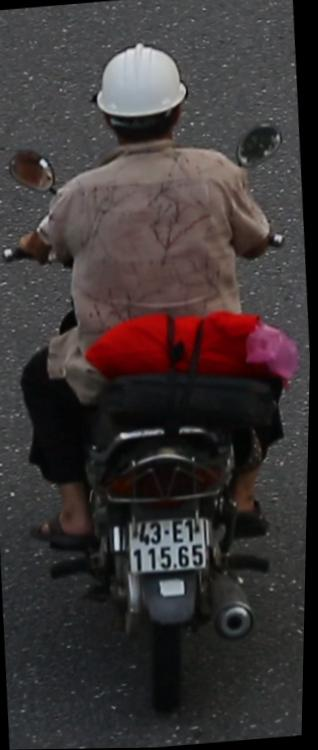LP: (123, 510, 220, 586)
helmet: (90, 35, 195, 162)
